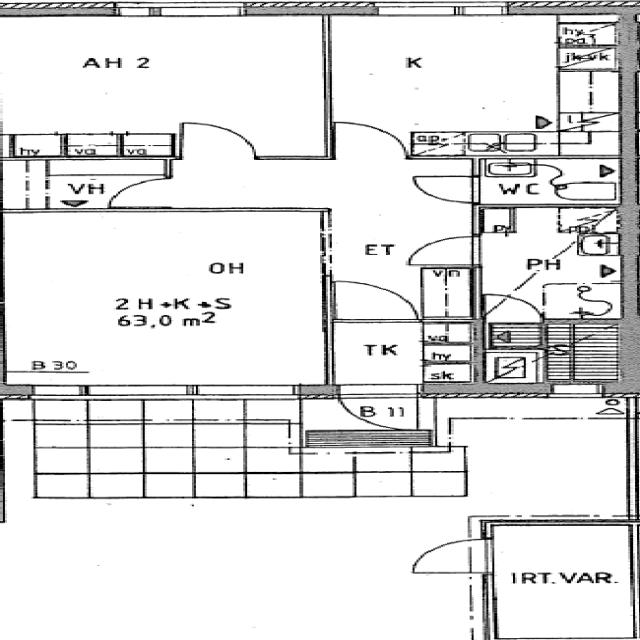door: (342, 385, 416, 432), (336, 282, 416, 322), (408, 539, 494, 572), (181, 121, 255, 159), (336, 123, 406, 159), (102, 180, 172, 208), (412, 237, 479, 264), (486, 292, 542, 324), (414, 176, 480, 202)
